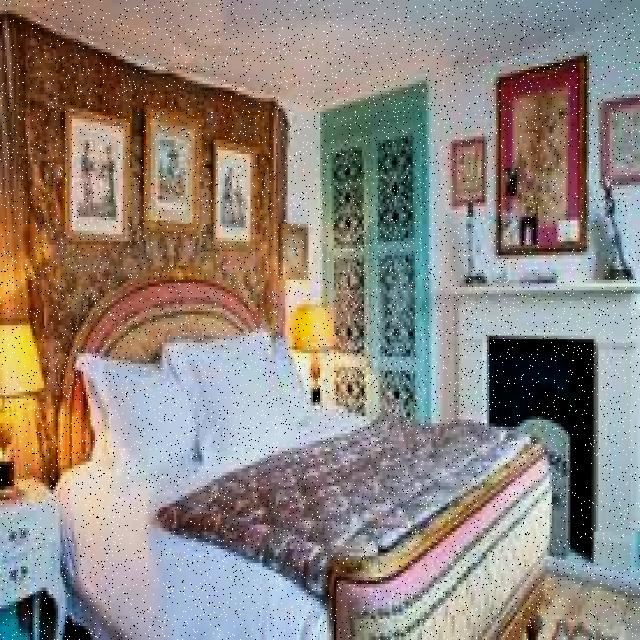bed: (78, 337, 537, 566)
